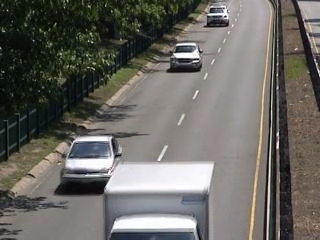car: (63, 133, 129, 191), (162, 40, 205, 73), (204, 5, 235, 31)
truck: (99, 158, 213, 240)
